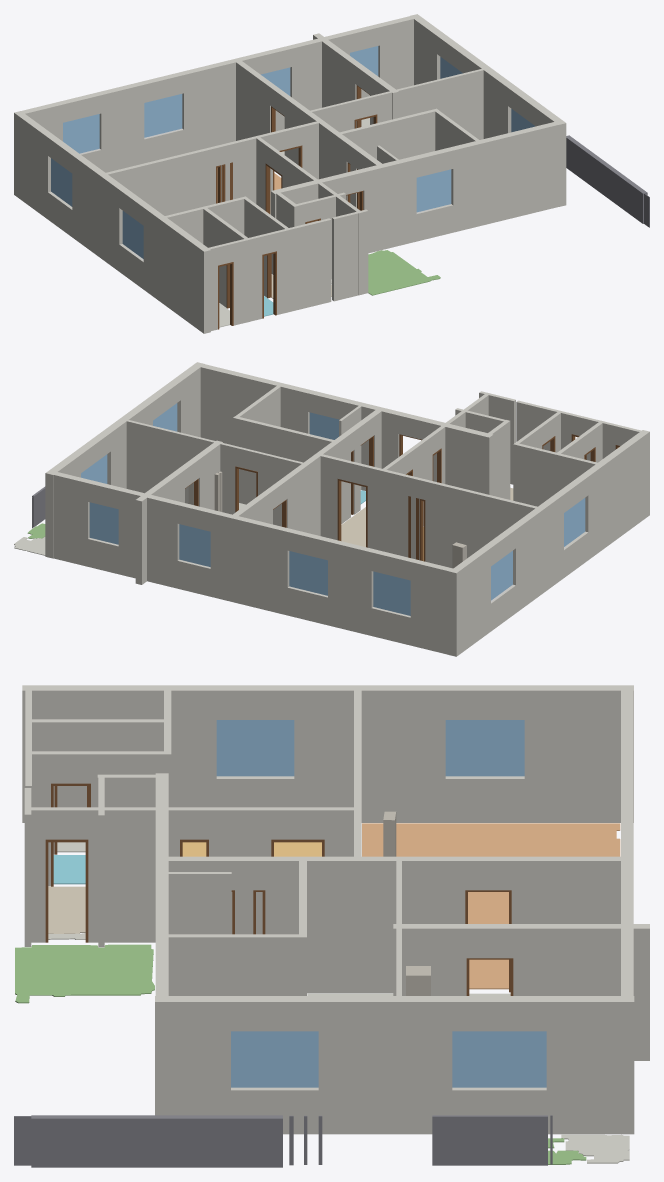
3 renders of one model, top to bottom at view 1: azimuth 30°, elevation 25°; view 2: azimuth 150°, elevation 25°; view 3: azimuth 270°, elevation 25°, orthographic. The views are drawn at different scales.
Visible parts, largest first — view 1: walls, railings, floor_12_Outdoor, window_18, window_9, window_17, window_16, window_11, window_19, window_13; view 2: walls, window_18, window_17, window_13, window_19, window_11, window_16, floor_4_Entry, window_9, window_15, door_4, railings (+2 smaller); view 3: walls, railings, floor_0_Living_Room, floor_12_Outdoor, window_15, window_21, window_16, window_11, floor_15_Entry, floor_16_Undefined, floor_13_Kitchen, floor_8_Bath (+2 smaller).
Boxes of the visible parts, box(x1,y1,x2,y2) form: walls: box(14, 14, 566, 333); railings: box(566, 135, 649, 227); floor_12_Outdoor: box(368, 250, 440, 295); window_18: box(144, 94, 182, 137); window_9: box(416, 169, 451, 212); window_17: box(63, 114, 99, 153); window_16: box(51, 158, 72, 206); window_11: box(122, 211, 143, 258); window_19: box(350, 46, 378, 75); window_13: box(261, 67, 290, 95); walls: box(45, 362, 649, 656); window_18: box(289, 551, 327, 595); window_17: box(373, 571, 410, 615); window_13: box(179, 524, 210, 566); window_19: box(89, 502, 118, 544); window_11: box(564, 498, 585, 546); window_16: box(491, 551, 512, 600); floor_4_Entry: box(341, 507, 365, 546); window_9: box(309, 412, 339, 439); window_15: box(81, 454, 107, 483); door_4: box(337, 479, 367, 547); railings: box(32, 486, 45, 528); walls: box(22, 685, 649, 1134); railings: box(14, 1115, 552, 1167); floor_0_Living_Room: box(362, 823, 620, 989); floor_12_Outdoor: box(15, 944, 154, 1003); window_15: box(452, 1031, 546, 1087); window_21: box(231, 1031, 318, 1087); window_16: box(445, 720, 524, 776); window_11: box(216, 720, 294, 776); floor_15_Entry: box(48, 886, 85, 933); floor_16_Undefined: box(561, 1134, 629, 1163); floor_13_Kitchen: box(182, 842, 321, 856); floor_8_Bath: box(53, 855, 85, 884).
Bounding box in the file's own units: 15.35 × 2.72 × 11.77.
